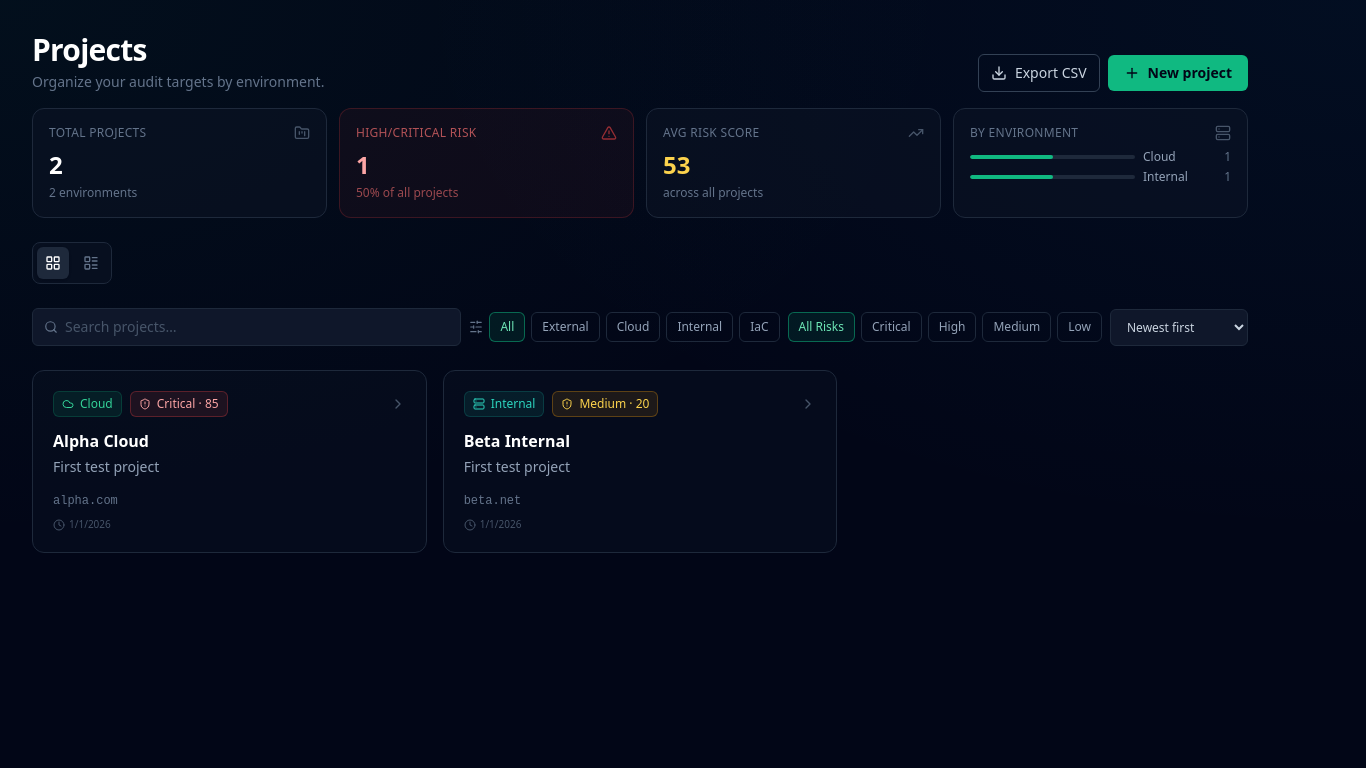
Scenario: Projects — search and filter › filters projects by search query
Expected: the heading "Alpha Cloud" is shown, [53,430,149,452]
In the field with placeholder "Search projects…": {"x": 247, "y": 327} [32,308,461,346], type "alpha"
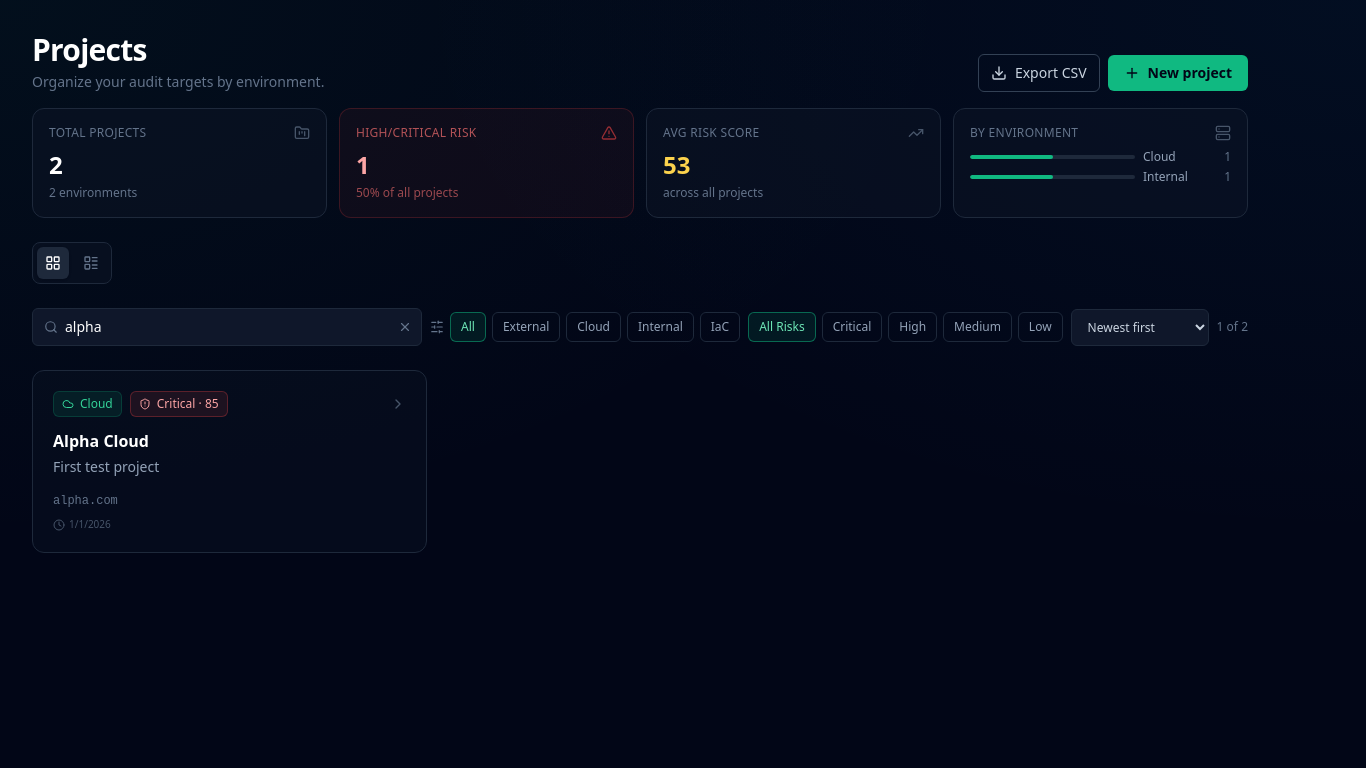
Expected: the heading "Alpha Cloud" is shown, [53,430,149,452]
Now the button "Beta Internal" is gone
